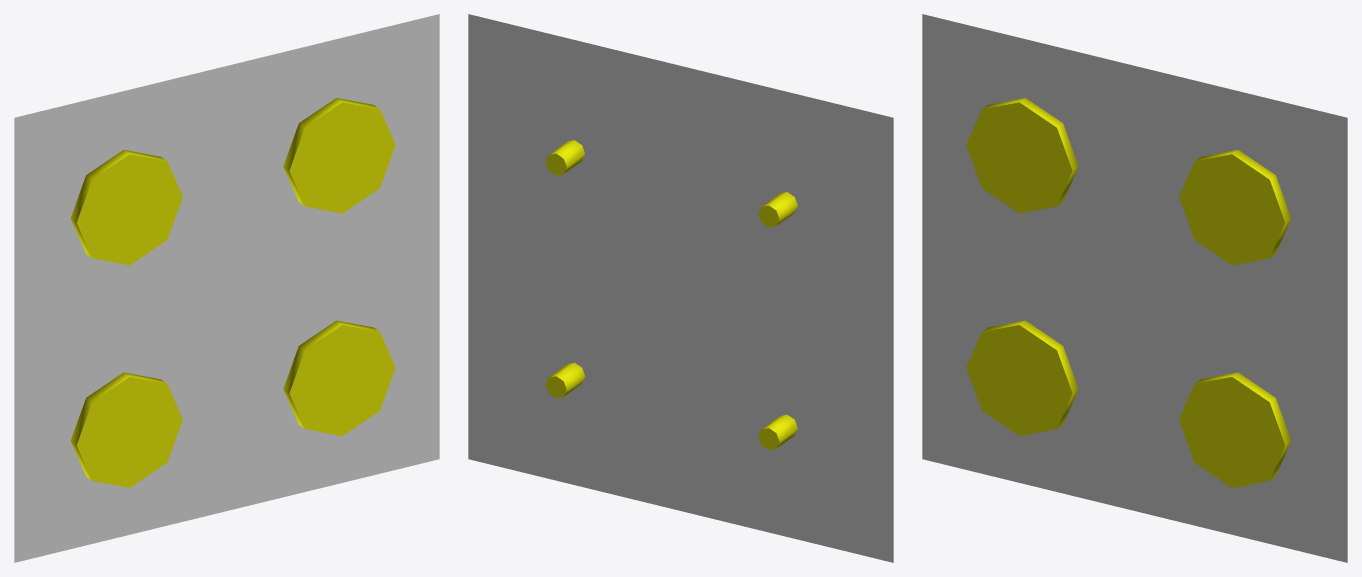
The model's file is poster.glb.
The picture shows the model from 3 angles, left to right: view 1: azimuth 30°, elevation 25°; view 2: azimuth 150°, elevation 25°; view 3: azimuth 330°, elevation 25°; orthographic projection.
Visible parts, largest first — view 1: __X_PICTURE__Plane, __X_PIN__Cylinder.001, __X_PIN__Cylinder.003, __X_PIN__Cylinder.002, __X_PIN__Cylinder; view 2: __X_PICTURE__Plane, __X_PIN__Cylinder.002, __X_PIN__Cylinder.001, __X_PIN__Cylinder, __X_PIN__Cylinder.003; view 3: __X_PICTURE__Plane, __X_PIN__Cylinder, __X_PIN__Cylinder.002, __X_PIN__Cylinder.003, __X_PIN__Cylinder.001.
Part boxes in pixels (x1,y1,x2,y2): __X_PICTURE__Plane: (14,14,439,562); __X_PIN__Cylinder.001: (283,98,395,213); __X_PIN__Cylinder.003: (283,320,395,436); __X_PIN__Cylinder.002: (70,372,182,487); __X_PIN__Cylinder: (70,150,182,265); __X_PICTURE__Plane: (468,14,893,562); __X_PIN__Cylinder.002: (758,414,797,450); __X_PIN__Cylinder.001: (545,140,584,175); __X_PIN__Cylinder: (758,192,797,227); __X_PIN__Cylinder.003: (545,362,585,398); __X_PICTURE__Plane: (922,14,1347,562); __X_PIN__Cylinder: (966,98,1078,213); __X_PIN__Cylinder.002: (966,320,1078,436); __X_PIN__Cylinder.003: (1179,372,1291,487); __X_PIN__Cylinder.001: (1179,150,1291,265).
Bounding box in the file's own units: 0.04 × 0.04 × 0.0045.
